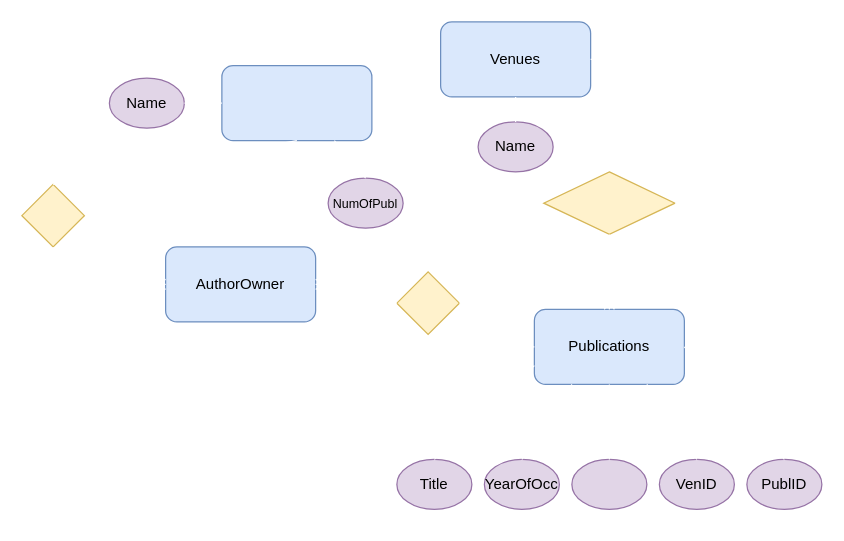
Some shapes in this 844 by 541 pixel diagram are drawn without their labels. Here are the shapes that lost their labels. From the top down, the centre of each, then its label:
(296,102): Authors
(52,215): Has
(608,202): Published At
(427,302): To
(609,483): NumOfAuth
